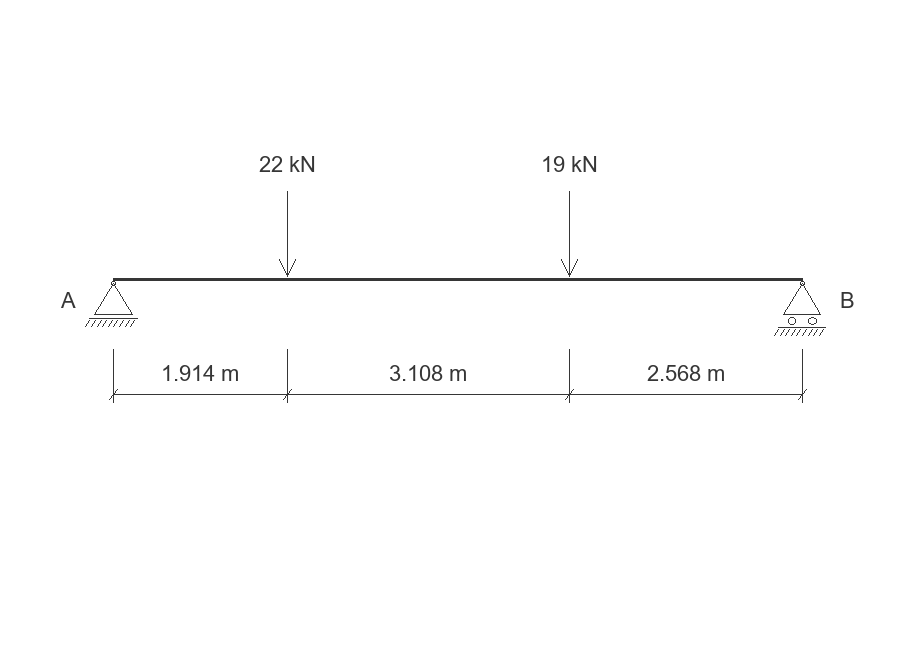pin_support: (85, 281, 138, 327)
point_load: (279, 191, 296, 277), (561, 191, 578, 277)
roller_support: (774, 281, 826, 336)
